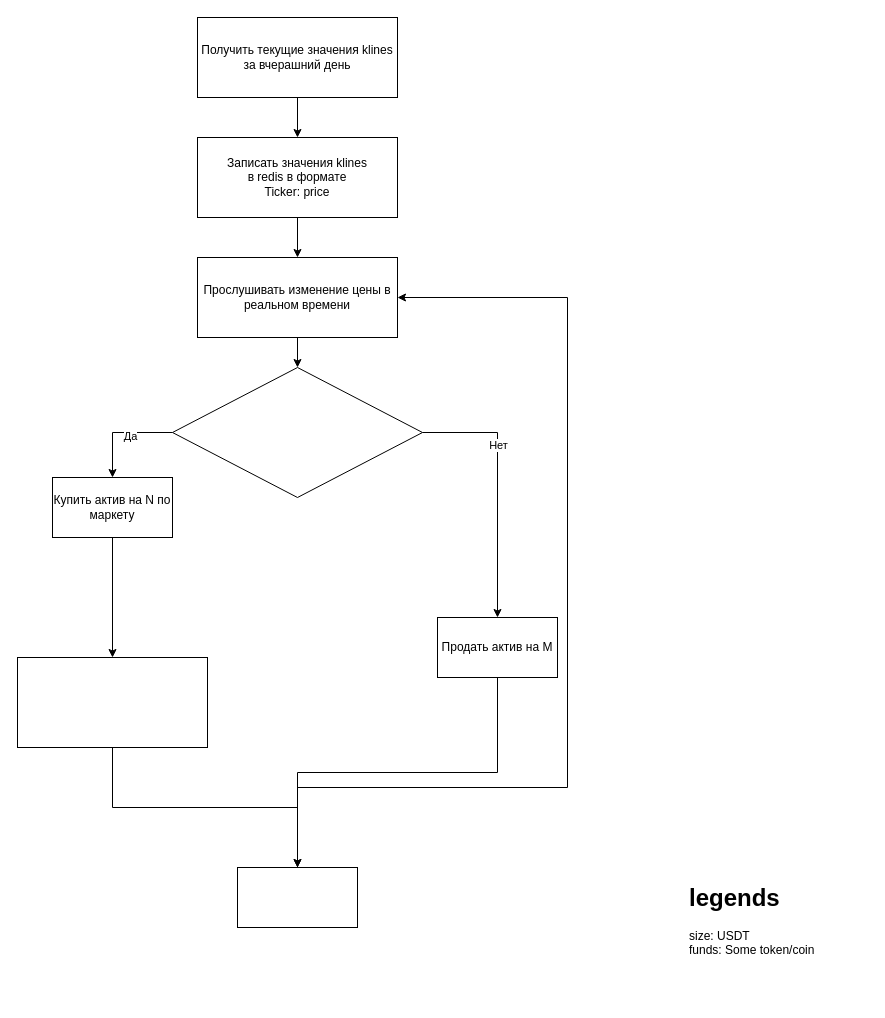
This 885x1018 diagram has some shape labels left out. The centre of each missing label's shape, as x and y in pixels:
"Если цена > значения kline за вчера" goes at (297,432).
"Записать значение покупки/продажи" goes at (297,897).
"Получить значение средств(монет/токенов)" goes at (112,702).
